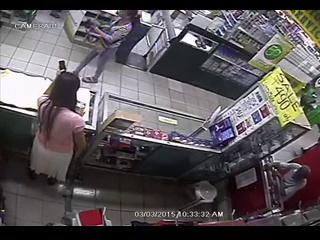Normal: (28, 70, 88, 189), (72, 11, 139, 84)
